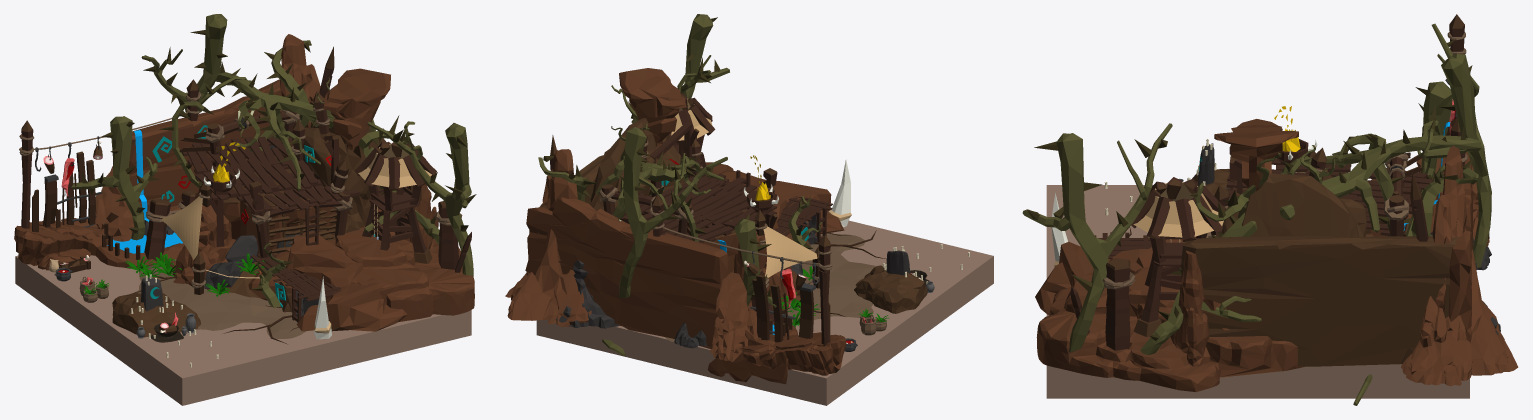
File: Desert_Warrens.fbx
The picture shows the model from 3 angles, left to right: view 1: azimuth 30°, elevation 25°; view 2: azimuth 150°, elevation 25°; view 3: azimuth 270°, elevation 25°; orthographic projection. The views are drawn at different scales.
Visible parts, largest first — view 1: Cube, Cave_Lair_Cave_Stone_Rock_Bedrock_01, Cave_Lair_Cave_Stone_Rock_Bedrock_02, Cave_Lair_Cave_Stone_Block_Eroded_02, Cave_Lair_Cave_Stone_Rock_Rubble_Pile_01, Rock_Shale_Outcrops_Large_02, Rock_Large_Canyon_Eroded_05, Cave_Lair_Vegetation_Swamp_Tree_Roots_Large_01 (3), Cave_Lair_Cave_Stone_Rock_Bedrock_Open_02, Cave_Lair_Vegetation_Swamp_Tree_Roots_Large_02 (1), Prop_Walkway_Timber_Simple_01 (1), Tribal_Plains_Windmill_Grain_Tent_Roof_Top_02 (+42 smaller); view 2: Cube, Cave_Lair_Cave_Stone_Block_Eroded_02, Cave_Lair_Cave_Stone_Rock_Spire_01, Cave_Lair_Cave_Stone_Block_Eroded_02 (2), Cave_Lair_Vegetation_Swamp_Tree_Roots_Large_01 (2), Cave_Lair_Cave_Stone_Rock_Rubble_Pile_01, Rock_Large_Canyon_Eroded_05, Cave_Lair_Cave_Stone_Rock_Bedrock_Open_02, Cave_Lair_Cave_Stone_Rock_Spire_04, Rock_Large_11, Prop_Walkway_Timber_Simple_01 (1), Rock_Shale_Outcrops_Large_02 (+28 smaller); view 3: Cave_Lair_Cave_Stone_Block_Eroded_02 (1), Cube, Cave_Lair_Cave_Stone_Rock_Bedrock_01, Cave_Lair_Cave_Stone_Rock_Spire_01, Cave_Lair_Vegetation_Swamp_Tree_Roots_Large_01 (3), Rock_Shale_Outcrops_Large_02, Cave_Lair_Vegetation_Swamp_Tree_Roots_Large_01 (2), Tribal_Plains_Windmill_Grain_Tent_Roof_Top_02, Cave_Lair_Vegetation_Swamp_Tree_Roots_Large_01, Rock_Large_Canyon_Eroded_05, Cave_Lair_Cave_Stone_Rock_Spire_03, Cave_Lair_Cave_Stone_Rock_Bedrock_02 (+20 smaller).
Boxes of the visible parts, x1,y1,x2,y2 form: Cube: (15,255,471,405); Cave_Lair_Cave_Stone_Rock_Bedrock_01: (335,226,474,321); Cave_Lair_Cave_Stone_Rock_Bedrock_02: (248,230,407,331); Cave_Lair_Cave_Stone_Block_Eroded_02: (129,108,266,211); Cave_Lair_Cave_Stone_Rock_Rubble_Pile_01: (134,247,306,338); Rock_Shale_Outcrops_Large_02: (216,126,383,297); Rock_Large_Canyon_Eroded_05: (323,68,390,150); Cave_Lair_Vegetation_Swamp_Tree_Roots_Large_01 (3): (367,121,473,276); Cave_Lair_Cave_Stone_Rock_Bedrock_Open_02: (14,218,110,270); Cave_Lair_Vegetation_Swamp_Tree_Roots_Large_02 (1): (71,116,157,240); Prop_Walkway_Timber_Simple_01 (1): (195,159,321,200); Tribal_Plains_Windmill_Grain_Tent_Roof_Top_02: (354,141,436,190); Cube: (536,220,993,405); Cave_Lair_Cave_Stone_Block_Eroded_02: (525,207,727,346); Cave_Lair_Cave_Stone_Rock_Spire_01: (505,149,591,327); Cave_Lair_Cave_Stone_Block_Eroded_02 (2): (542,197,631,323); Cave_Lair_Vegetation_Swamp_Tree_Roots_Large_01 (2): (619,127,727,298); Cave_Lair_Cave_Stone_Rock_Rubble_Pile_01: (665,234,875,341); Rock_Large_Canyon_Eroded_05: (619,68,686,147); Cave_Lair_Cave_Stone_Rock_Bedrock_Open_02: (742,332,845,375); Cave_Lair_Cave_Stone_Rock_Spire_04: (710,272,757,362); Rock_Large_11: (854,265,927,313); Prop_Walkway_Timber_Simple_01 (1): (662,179,776,229); Rock_Shale_Outcrops_Large_02: (590,118,806,280); Cave_Lair_Cave_Stone_Block_Eroded_02 (1): (1181,236,1470,366); Cube: (1046,185,1469,398); Cave_Lair_Cave_Stone_Rock_Bedrock_01: (1036,266,1304,392); Cave_Lair_Cave_Stone_Rock_Spire_01: (1401,145,1518,386); Cave_Lair_Vegetation_Swamp_Tree_Roots_Large_01 (3): (1022,123,1172,352); Rock_Shale_Outcrops_Large_02: (1222,173,1373,237); Cave_Lair_Vegetation_Swamp_Tree_Roots_Large_01 (2): (1423,23,1491,267); Tribal_Plains_Windmill_Grain_Tent_Roof_Top_02: (1131,177,1226,241); Cave_Lair_Vegetation_Swamp_Tree_Roots_Large_01: (1279,135,1481,232); Rock_Large_Canyon_Eroded_05: (1214,119,1298,191); Cave_Lair_Cave_Stone_Rock_Spire_03: (1173,250,1210,366); Cave_Lair_Cave_Stone_Rock_Bedrock_02: (1035,239,1184,315).
Bounding box in the file's own units: 26.51 × 18.04 × 26.28.
